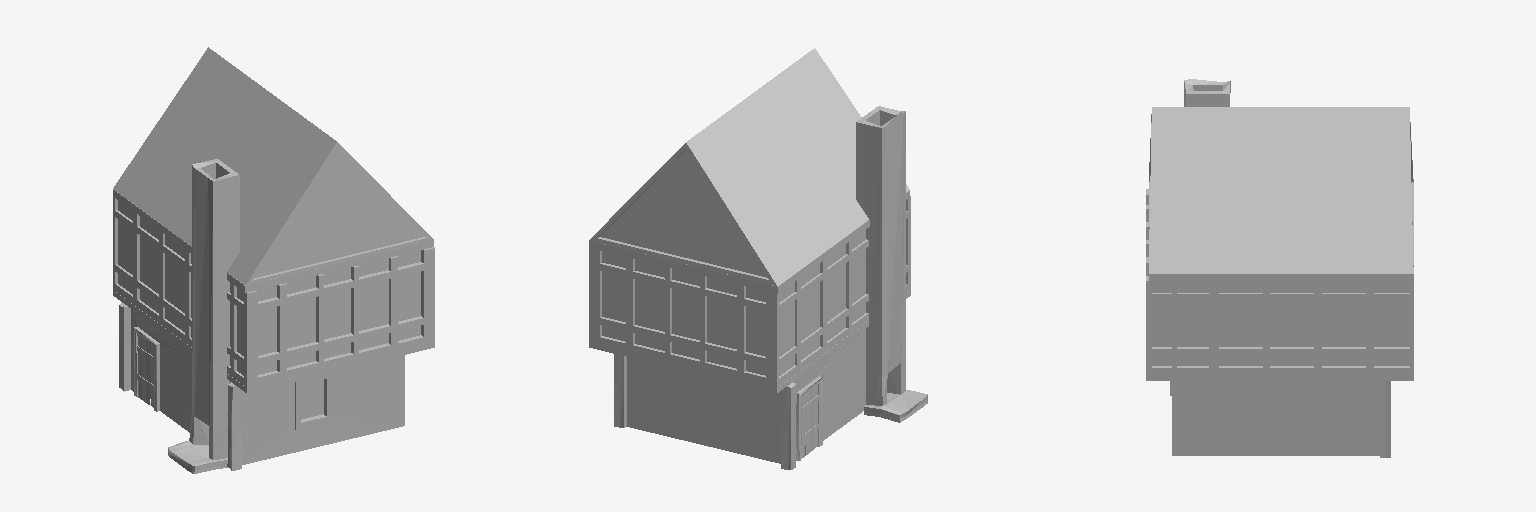
File: Medieval House.obj
The picture shows the model from 3 angles: view 1: azimuth 30°, elevation 25°; view 2: azimuth 150°, elevation 25°; view 3: azimuth 270°, elevation 25°; orthographic projection.
Visible parts, largest first — view 1: Cube_Cube.001; view 2: Cube_Cube.001; view 3: Cube_Cube.001.
Boxes of the visible parts, box(x1,y1,x2,y2) form: Cube_Cube.001: box(113, 47, 434, 473); Cube_Cube.001: box(589, 48, 927, 469); Cube_Cube.001: box(1146, 79, 1413, 457).
Size of the model in its own units: 3.49 by 4.65 by 3.59.